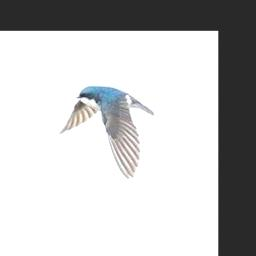Swallow: (55, 84, 156, 178)
